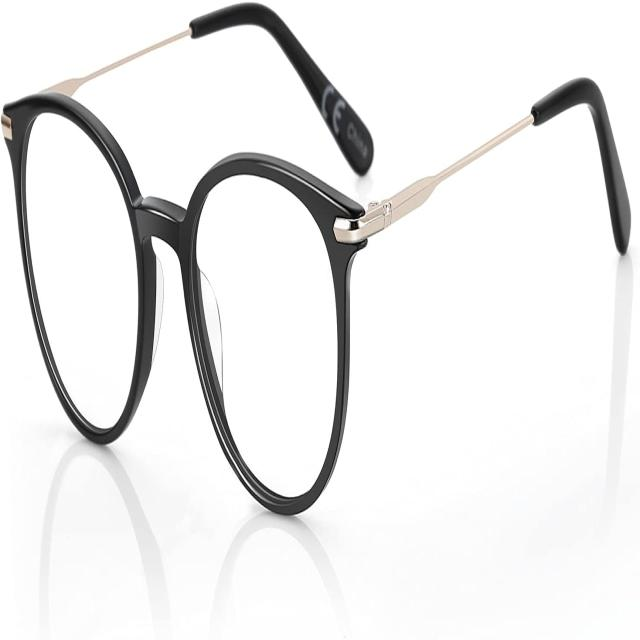glasses: (0, 0, 637, 549)
